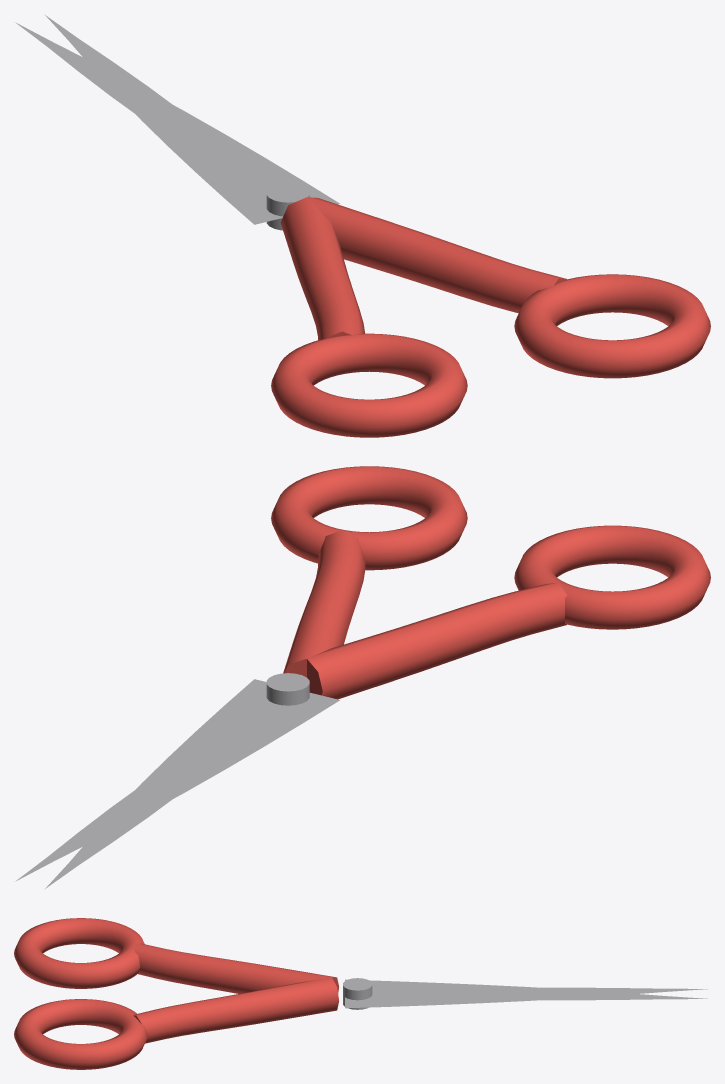
The model's file is item-hal-shears.glb.
3 views of the same model, one above another, from view 1: azimuth 30°, elevation 25°; view 2: azimuth 150°, elevation 25°; view 3: azimuth 270°, elevation 25° (orthographic). The views are drawn at different scales.
Size of the model in its own units: 0.153 by 0.017 by 0.3275.
